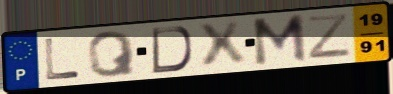D: (150, 25, 195, 75)
L: (42, 36, 82, 82)
M: (250, 12, 310, 69)
Q: (86, 30, 139, 79)
X: (194, 19, 250, 71)
Z: (305, 12, 354, 61)
